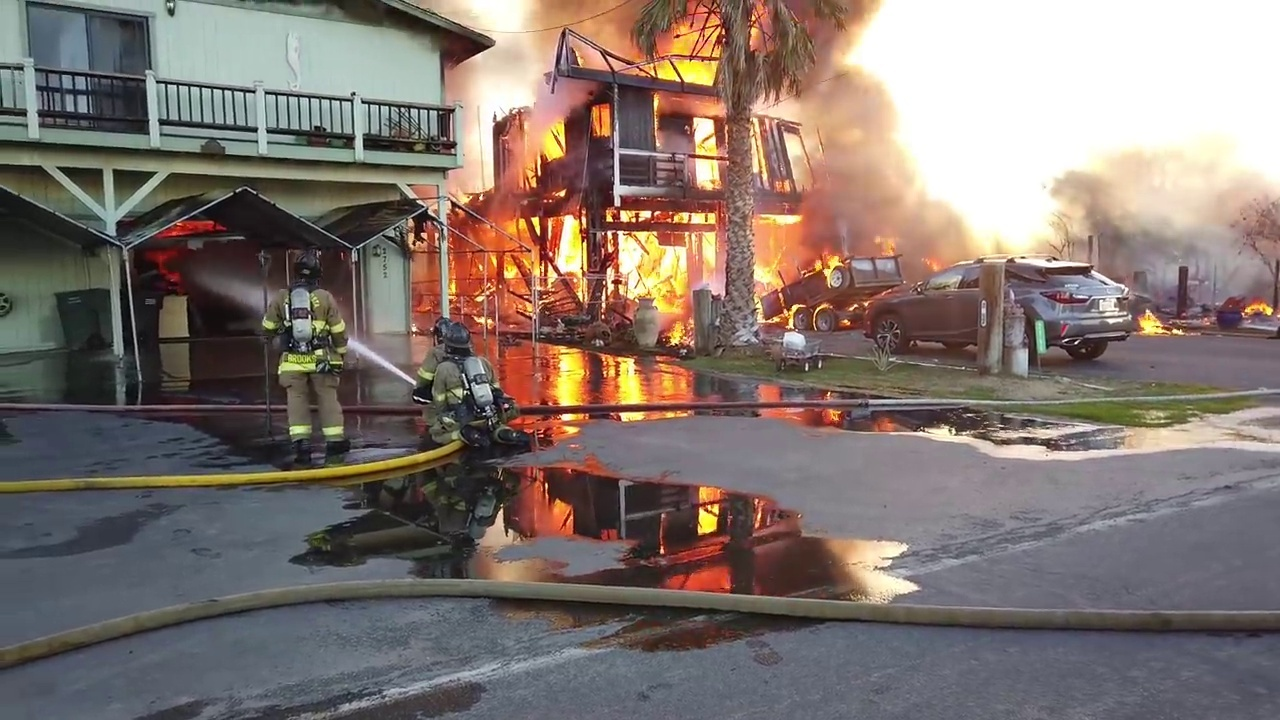fire: (490, 108, 588, 301), (609, 213, 725, 270), (621, 271, 694, 348), (648, 16, 727, 87), (753, 213, 808, 287), (444, 225, 490, 302), (690, 113, 723, 186), (1131, 308, 1188, 333), (587, 101, 614, 144), (816, 256, 850, 288), (872, 232, 901, 257), (913, 256, 949, 274), (1240, 298, 1276, 314)
smoke: (784, 1, 969, 246), (1061, 121, 1280, 295), (443, 4, 521, 107), (958, 182, 1057, 260), (521, 3, 644, 58), (526, 60, 601, 101), (698, 270, 725, 296)
